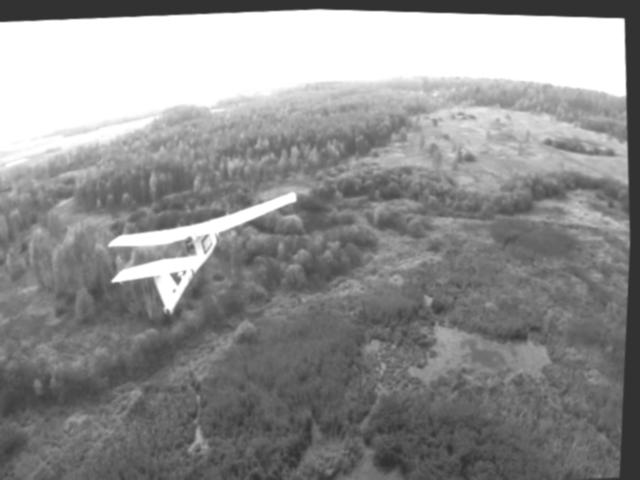hedef: (81, 182, 307, 327)
